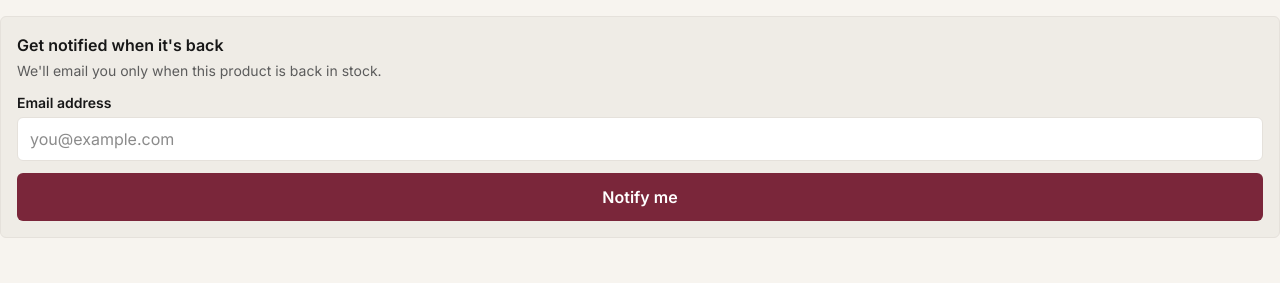
it: StockAlertForm › shows the generic error when the request fails
Step 1. Type "customer@example.com" into the field named "Email address for stock alerts on SAMPLE Futuristic A" → (640, 139), box [17,117,1263,161]
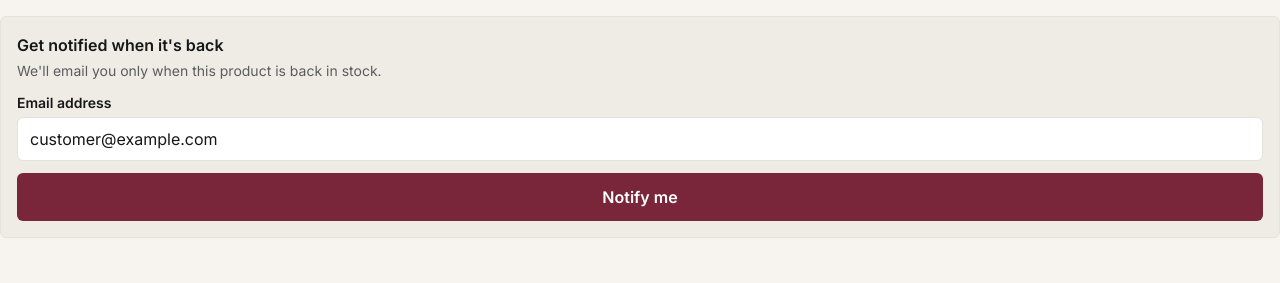
Step 2. Click the button "Notify me" → (640, 197), box [17,173,1263,221]
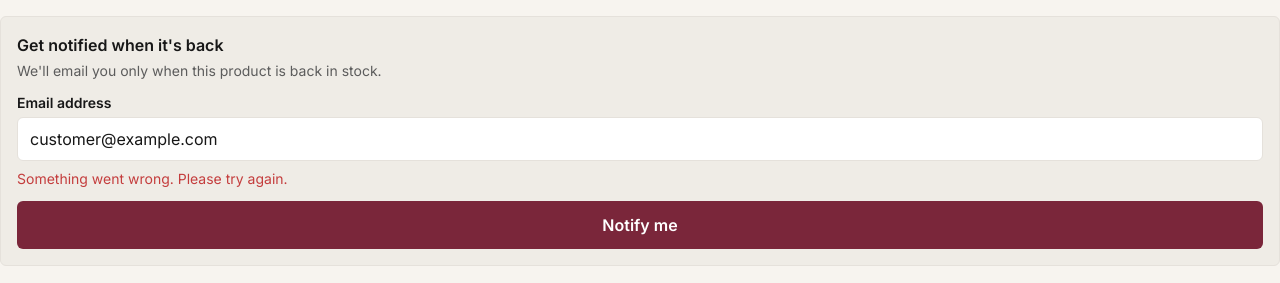
expect the message reads "Something went wrong. Please try again.": met, box [17,170,288,187]
